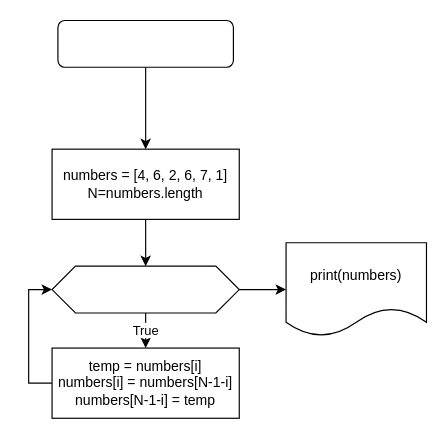
Some shapes in this 447 by 439 pixel diagram are drawn without their labels. Here are the shapes that lost their labels. From the top down, the box of each, then its label:
(57, 19, 233, 67): Start
(51, 265, 239, 313): i = 0; i < N/2; i++
